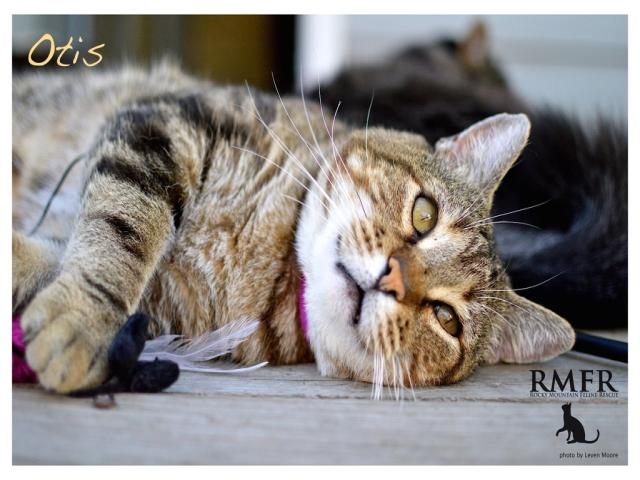Cat: (9, 53, 574, 411), (556, 403, 597, 446)
